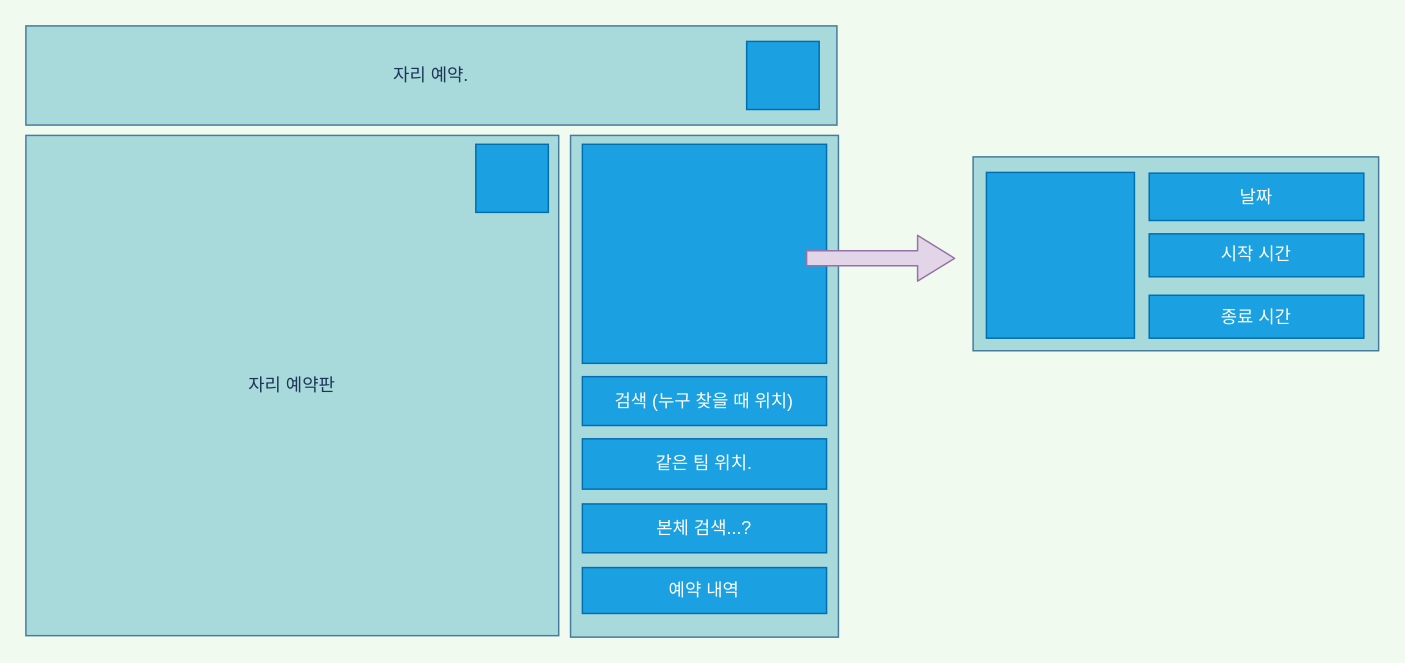
Some shapes in this 1405 by 663 pixel diagram are drawn without their labels. The centre of each missing label's shape, as x and y in pixels:
가능 시간: pixel 1059 254
사용자 이름: pixel 782 75
자리 선택 시 활성화: pixel 704 253
층 선택: pixel 511 177
